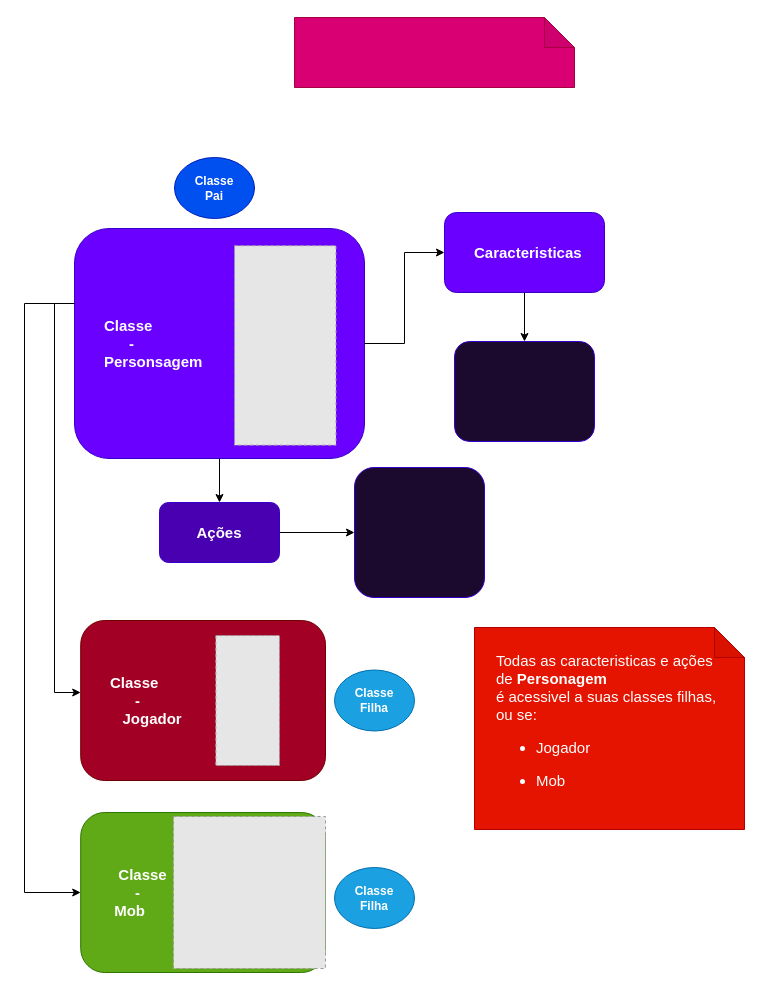
Image size: 762x990. Some labels were removed from this diagram. Grey dashed boxes stand in for pictures. Each missing label, with the centre of its shape:
Andar Correr Pular Atacar Nadar: [419,532]
Nome Vida Ataque Itens Experiência: [524,391]
PILAR - Herança: [434,52]
